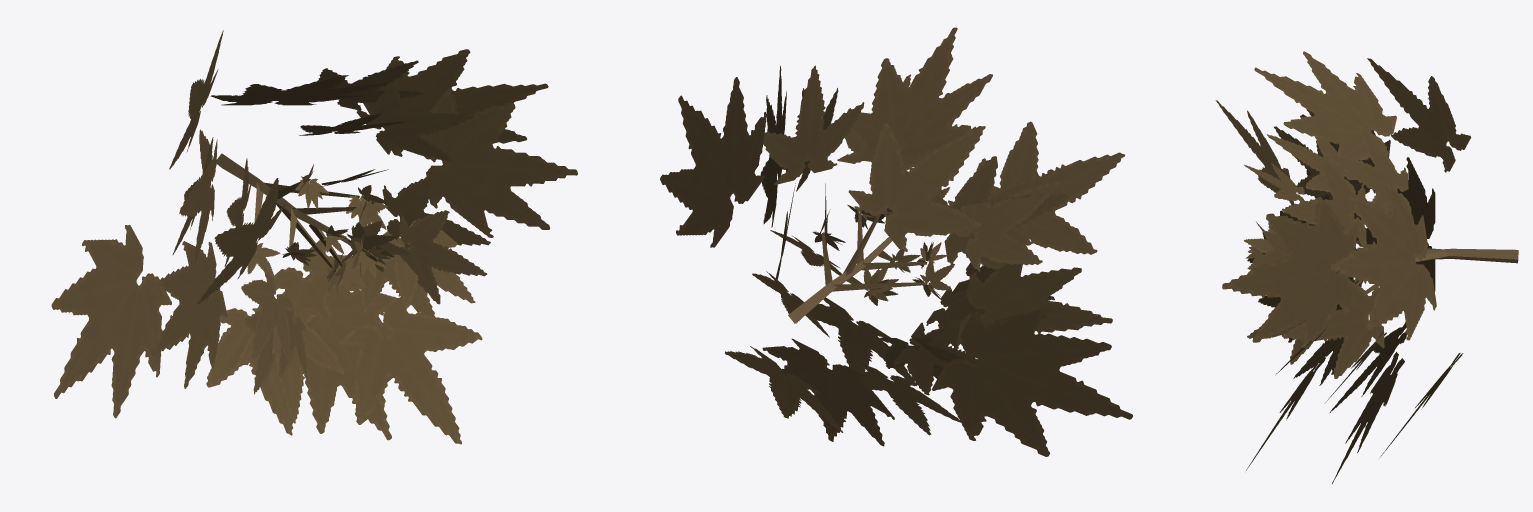
File: p_tree_vegetative_c3_cards.obj
3 views of the same model, side by side, from view 1: azimuth 30°, elevation 25°; view 2: azimuth 150°, elevation 25°; view 3: azimuth 270°, elevation 25° (orthographic). The views are drawn at different scales.
Bounding box in the file's own units: 1.68 × 1.33 × 0.892.
Materials: 1 (1 with a texture image).
